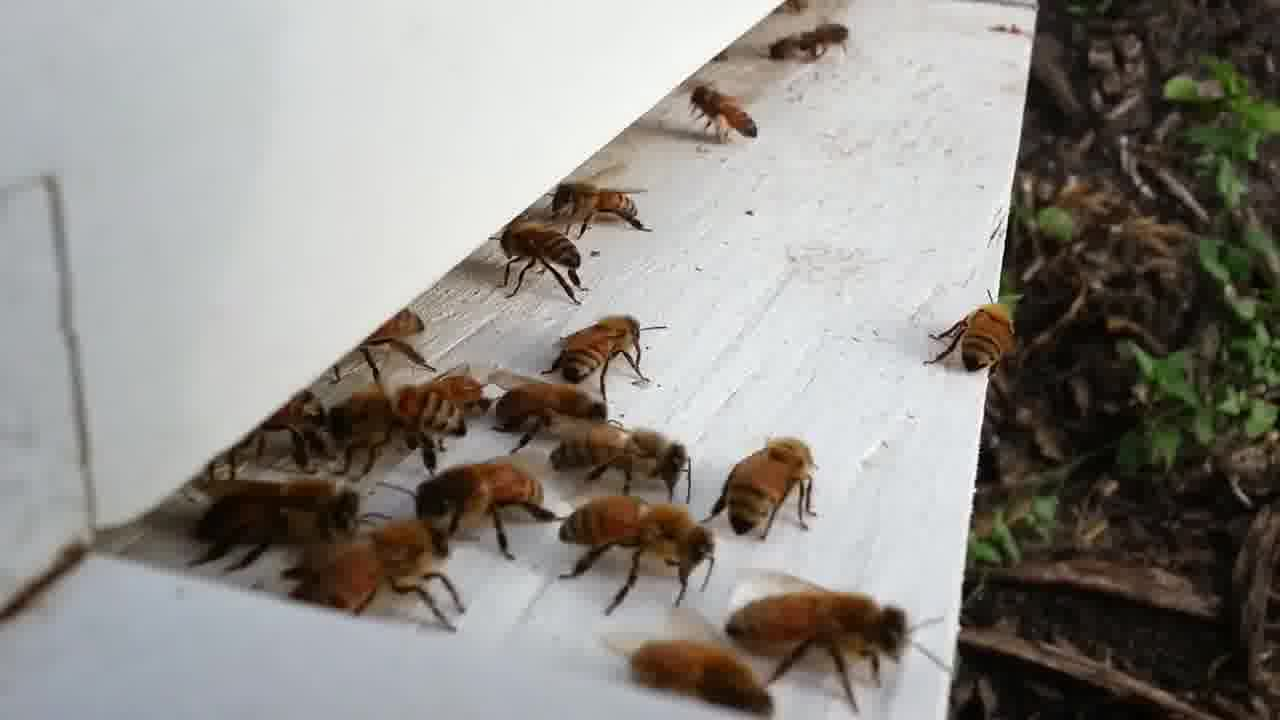pollen: (685, 83, 756, 146)
